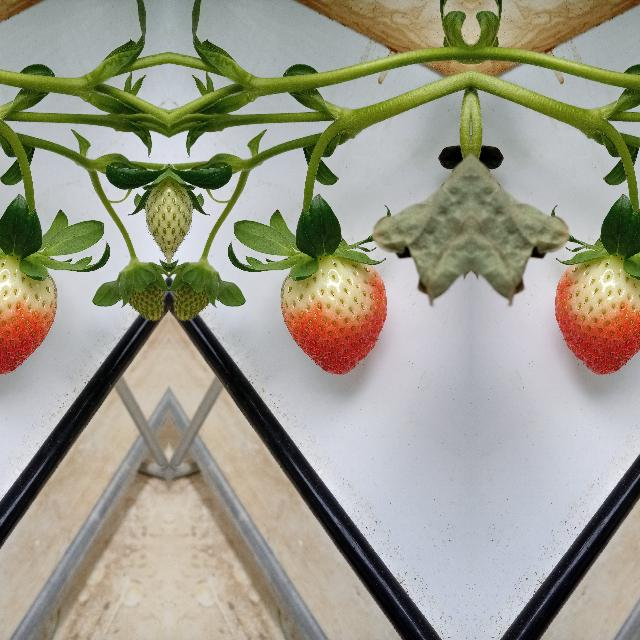Health_75: (279, 255, 386, 375), (554, 255, 640, 375), (0, 255, 56, 375)
